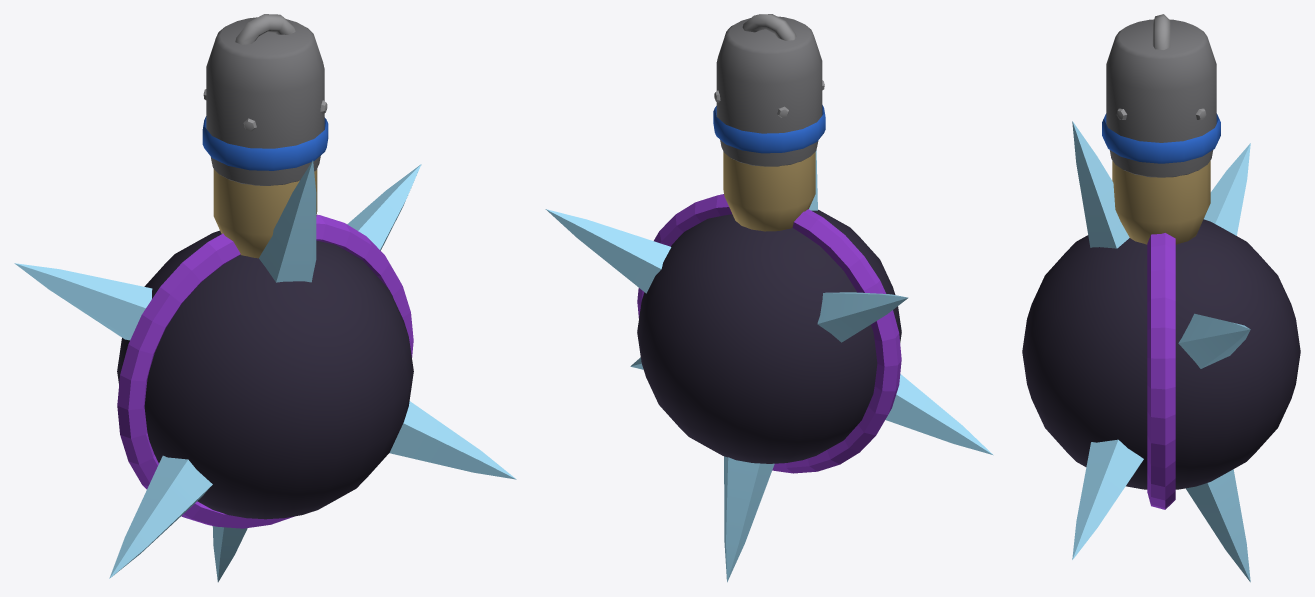
File: Kit_Mace_LeagueOrb.glb
3 renders of one model, left to right at view 1: azimuth 30°, elevation 25°; view 2: azimuth 150°, elevation 25°; view 3: azimuth 270°, elevation 25°, orthographic. The views are drawn at different scales.
Parts seen in each view (by area): view 1: Kit_Mace_LeagueOrb; view 2: Kit_Mace_LeagueOrb; view 3: Kit_Mace_LeagueOrb.
Part boxes in pixels (x1,y1,x2,y2): Kit_Mace_LeagueOrb: (14,14,516,582); Kit_Mace_LeagueOrb: (545,14,993,582); Kit_Mace_LeagueOrb: (1022,14,1300,582).
Bounding box in the file's own units: 0.2697 × 0.381 × 0.17.
